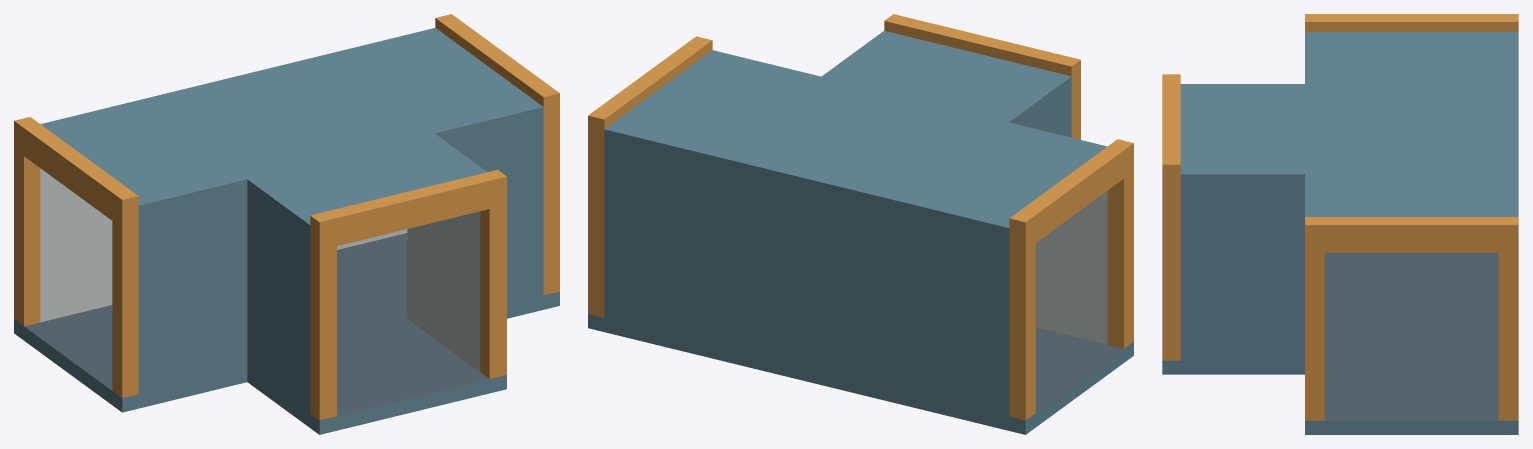
3 views of the same model, side by side, from view 1: azimuth 30°, elevation 25°; view 2: azimuth 150°, elevation 25°; view 3: azimuth 270°, elevation 25° (orthographic).
Parts seen in each view (by area): view 1: ContinuousThreeMouthTShell; view 2: ContinuousThreeMouthTShell; view 3: ContinuousThreeMouthTShell.
Boxes of the visible parts, x1,y1,x2,y2 form: ContinuousThreeMouthTShell: [14, 14, 559, 434]; ContinuousThreeMouthTShell: [588, 14, 1133, 434]; ContinuousThreeMouthTShell: [1162, 14, 1518, 434].
Size of the model in its own units: 7 by 3.25 by 5.
